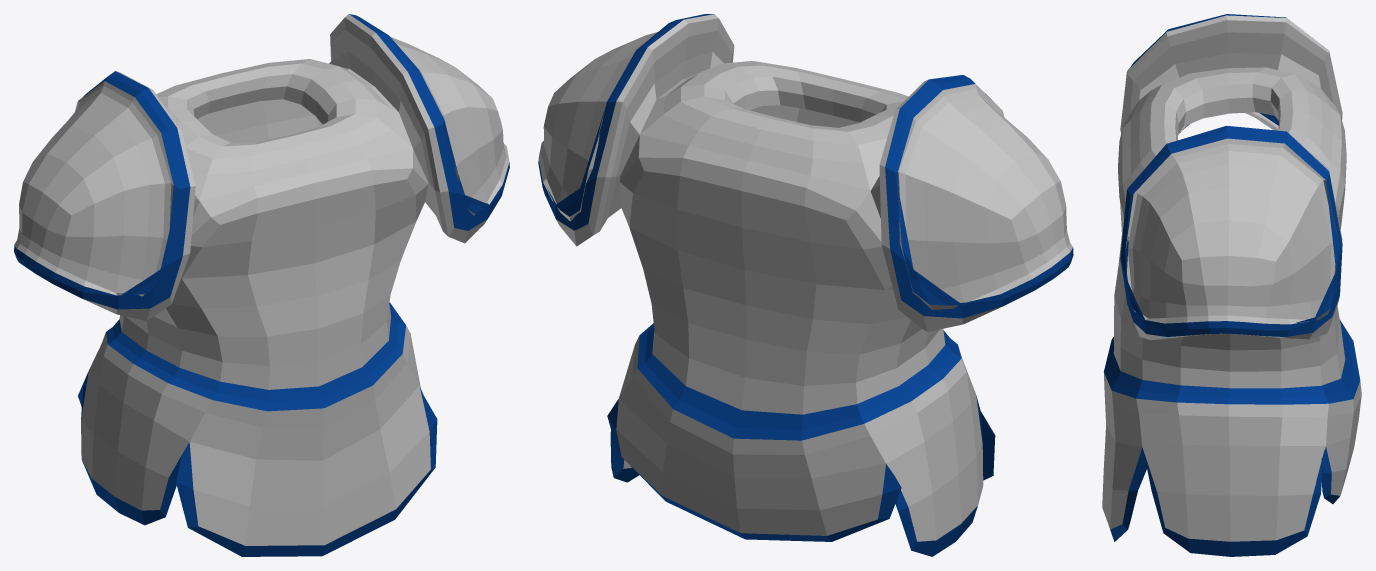
Rendered from ArmorSilver.fbx.
The picture shows the model from 3 angles, left to right: view 1: azimuth 30°, elevation 25°; view 2: azimuth 150°, elevation 25°; view 3: azimuth 270°, elevation 25°; orthographic projection. The views are drawn at different scales.
Parts seen in each view (by area): view 1: Body; view 2: Body; view 3: Body.
Part boxes in pixels (box(x1,y1,x2,y2)): Body: box(14, 14, 509, 556); Body: box(538, 14, 1073, 556); Body: box(1102, 14, 1361, 556).
Size of the model in its own units: 481 by 436 by 228.
